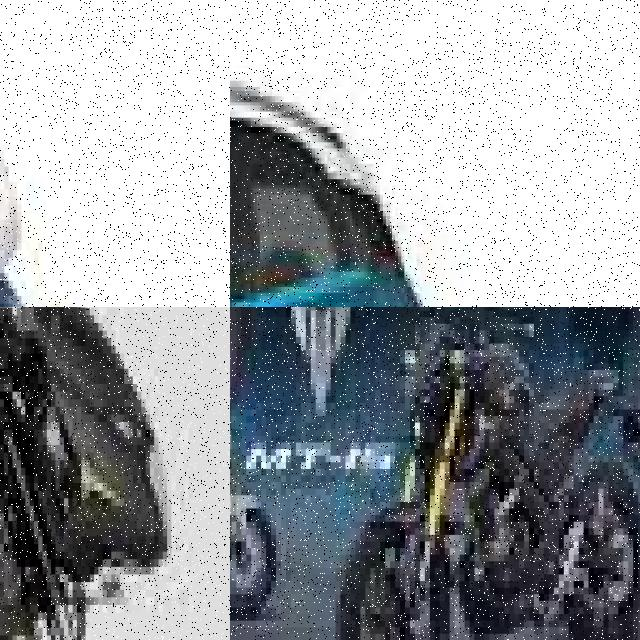bike: (330, 307, 640, 640), (0, 307, 230, 640), (0, 0, 64, 307), (230, 370, 281, 614)
car: (230, 1, 524, 307)
